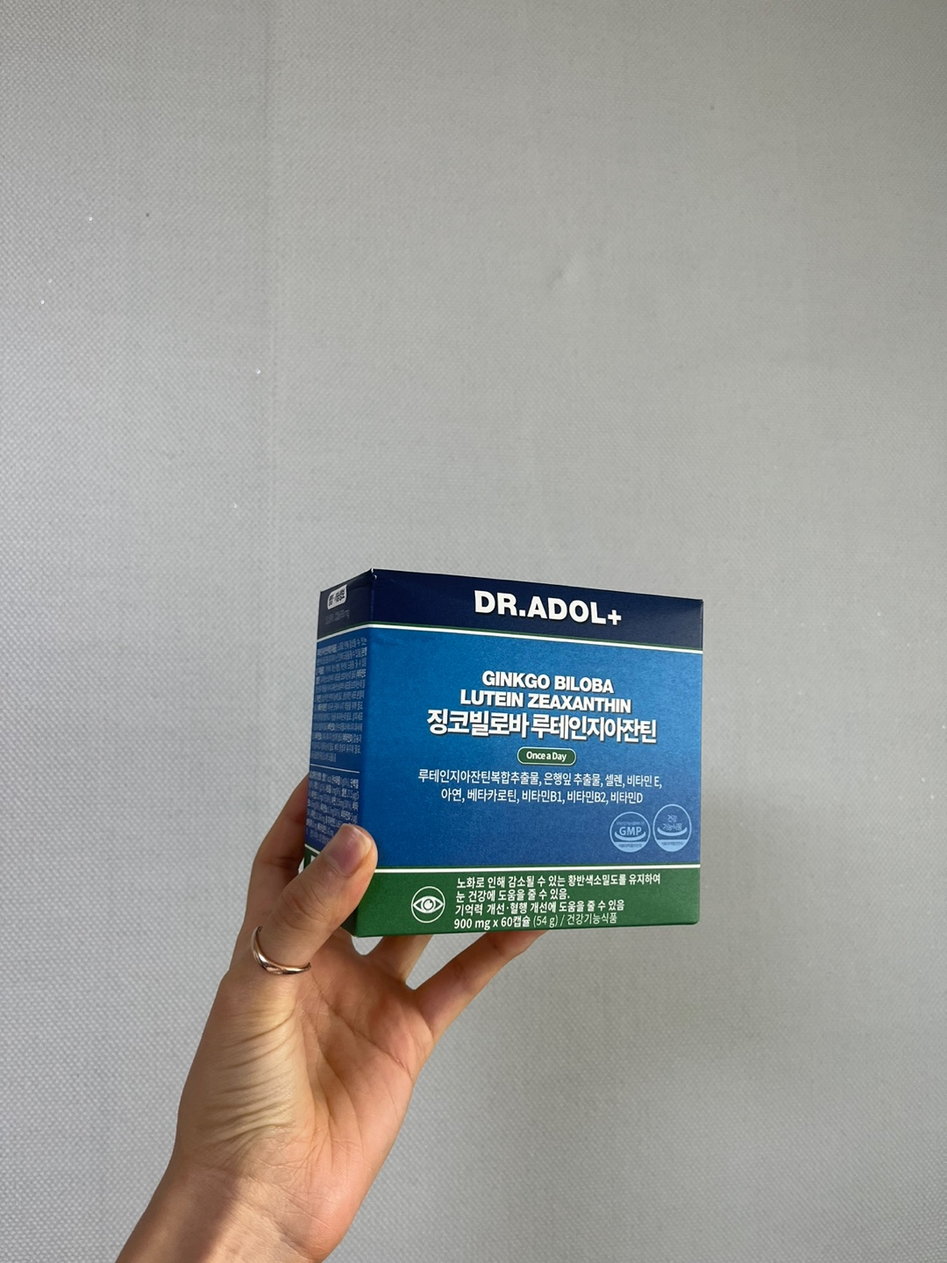supplement_label: (302, 562, 716, 947)
